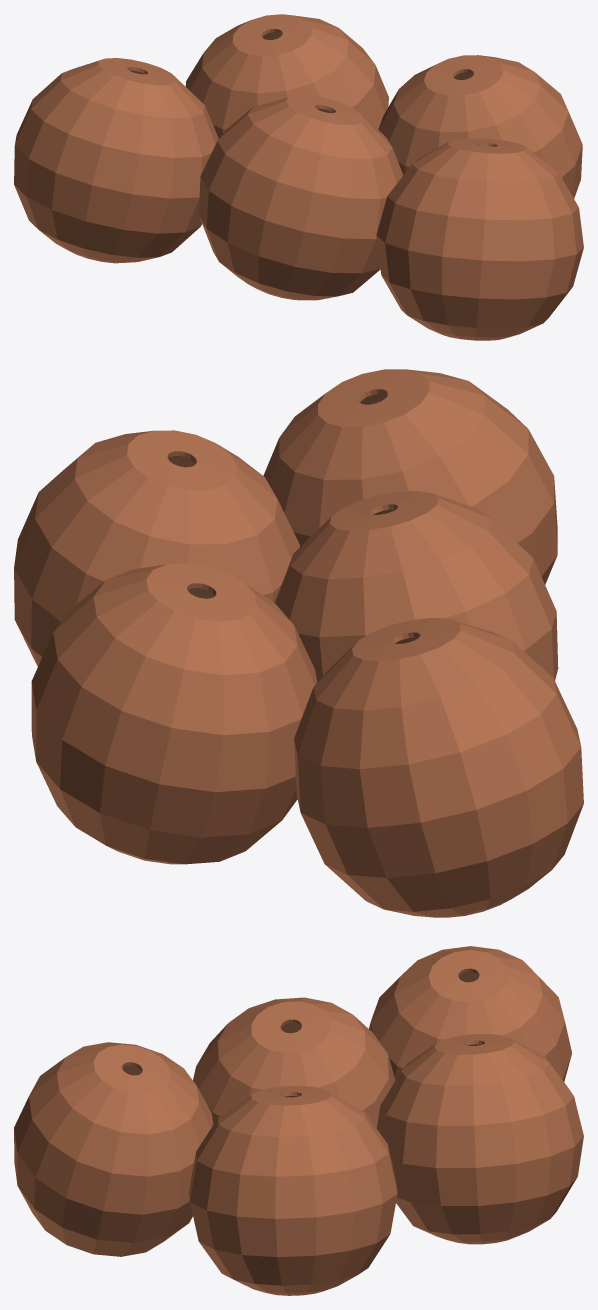
File: coconut_pile1.glb
3 renders of one model, top to bottom at view 1: azimuth 30°, elevation 25°; view 2: azimuth 150°, elevation 25°; view 3: azimuth 270°, elevation 25°, orthographic. The views are drawn at different scales.
Parts seen in each view (by area): view 1: CoconutPile1-col; view 2: CoconutPile1-col; view 3: CoconutPile1-col.
Boxes of the visible parts, left/top/right/bottom form: CoconutPile1-col: left=14, top=14, right=583, bottom=340; CoconutPile1-col: left=14, top=369, right=583, bottom=917; CoconutPile1-col: left=14, top=946, right=583, bottom=1295.
Size of the model in its own units: 1.29 by 0.503 by 1.36.
1 material, 1 textured.
